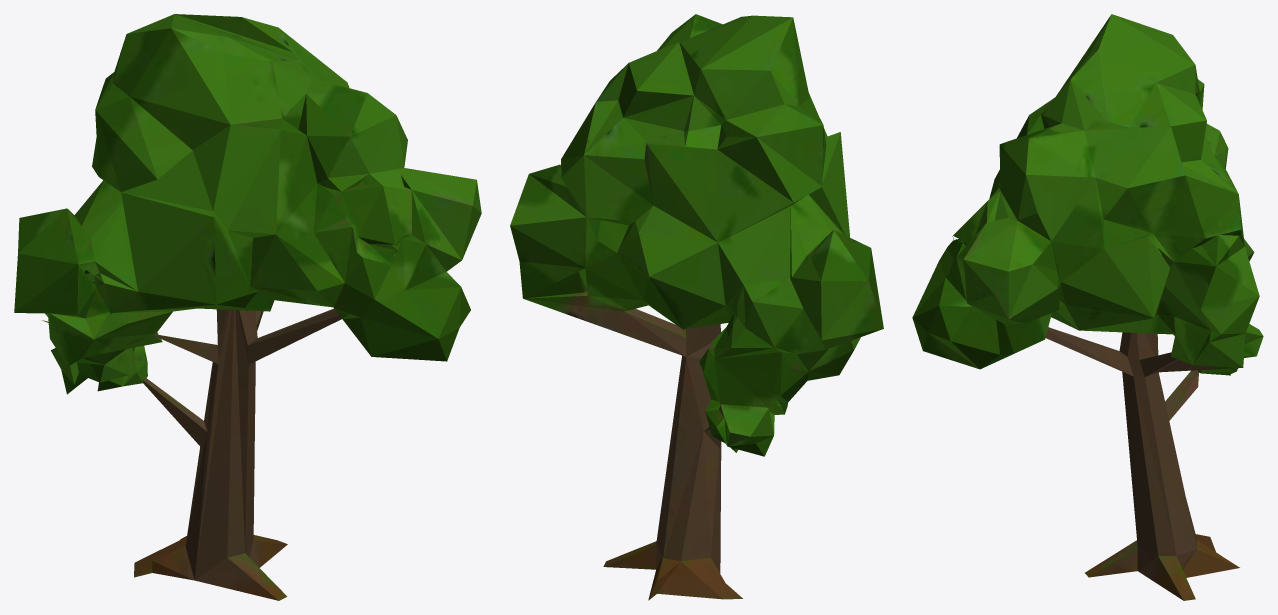
The model's file is tree_06.glb.
The picture shows the model from 3 angles, left to right: view 1: azimuth 30°, elevation 25°; view 2: azimuth 150°, elevation 25°; view 3: azimuth 270°, elevation 25°; orthographic projection. The views are drawn at different scales.
Visible parts, largest first — view 1: _6_tree__6_tree_0; view 2: _6_tree__6_tree_0; view 3: _6_tree__6_tree_0.
Part boxes in pixels (bbox=[...]): _6_tree__6_tree_0: bbox=[14, 14, 481, 600]; _6_tree__6_tree_0: bbox=[510, 14, 883, 600]; _6_tree__6_tree_0: bbox=[912, 14, 1263, 600].
Bounding box in the file's own units: 7.37 × 11 × 6.75.
Materials: 1 (1 with a texture image).
